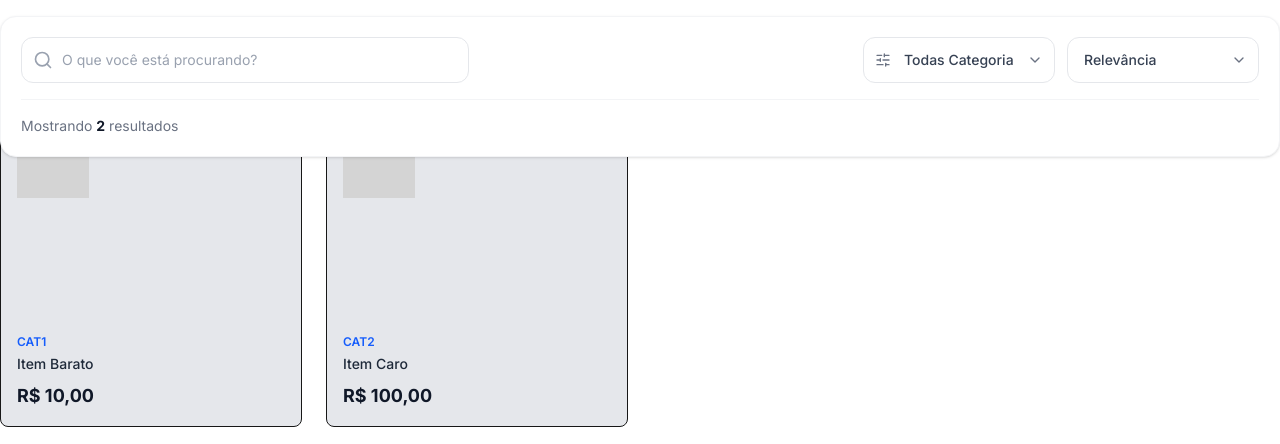
Test case: ProductCatalog Component › deve limpar a busca ao clicar no botão X do input
// Digita algo para fazer o botão X aparecer
Type "Barato" into the field with placeholder "O que você está procurando?".
click(245, 60); type("Barato")  # box [21,37,469,83]
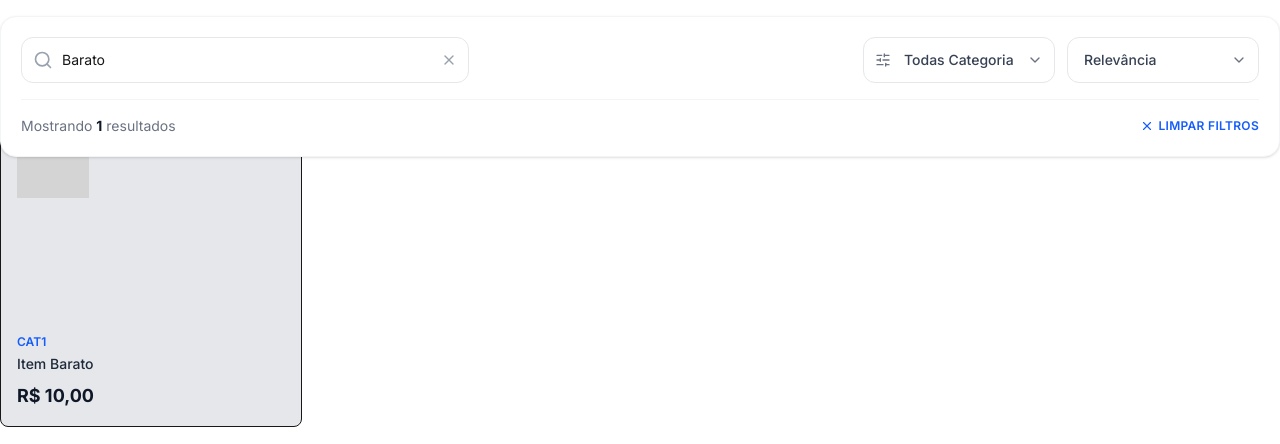
Expected: the link "Item Caro" is gone
Click the 1st button.
click(455, 60)  # box [441,37,469,83]
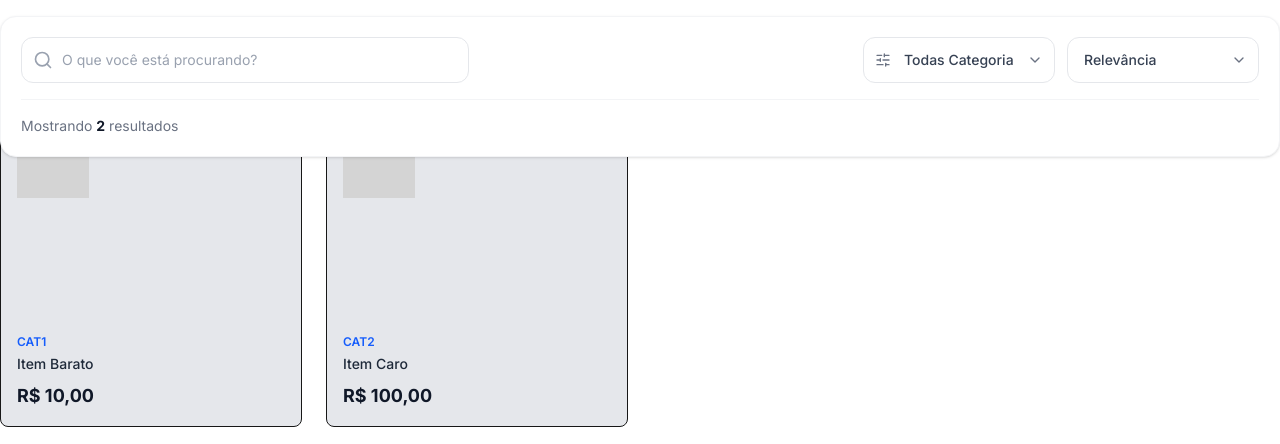
Expected: the field with placeholder "O que você está procurando?" is empty, [21,37,469,83]
Expected: the heading "Item Caro" is shown, [343,355,408,372]
